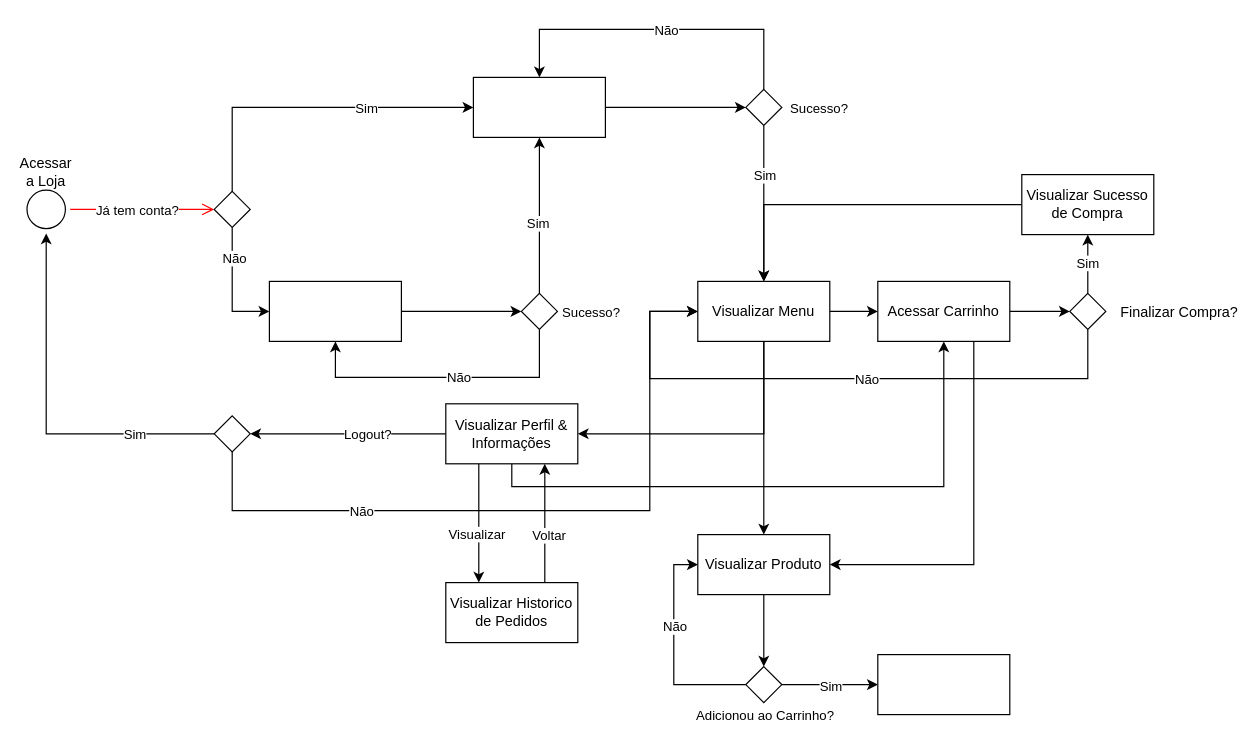
This 1258x744 diagram has some shape labels left out. Each missing label, with the centre of its shape:
Adicionar Produto ao Carrinho: pixel 943 684
Inserir Credenciais de Acesso: pixel 538 106
Preencher Registro: pixel 334 310
